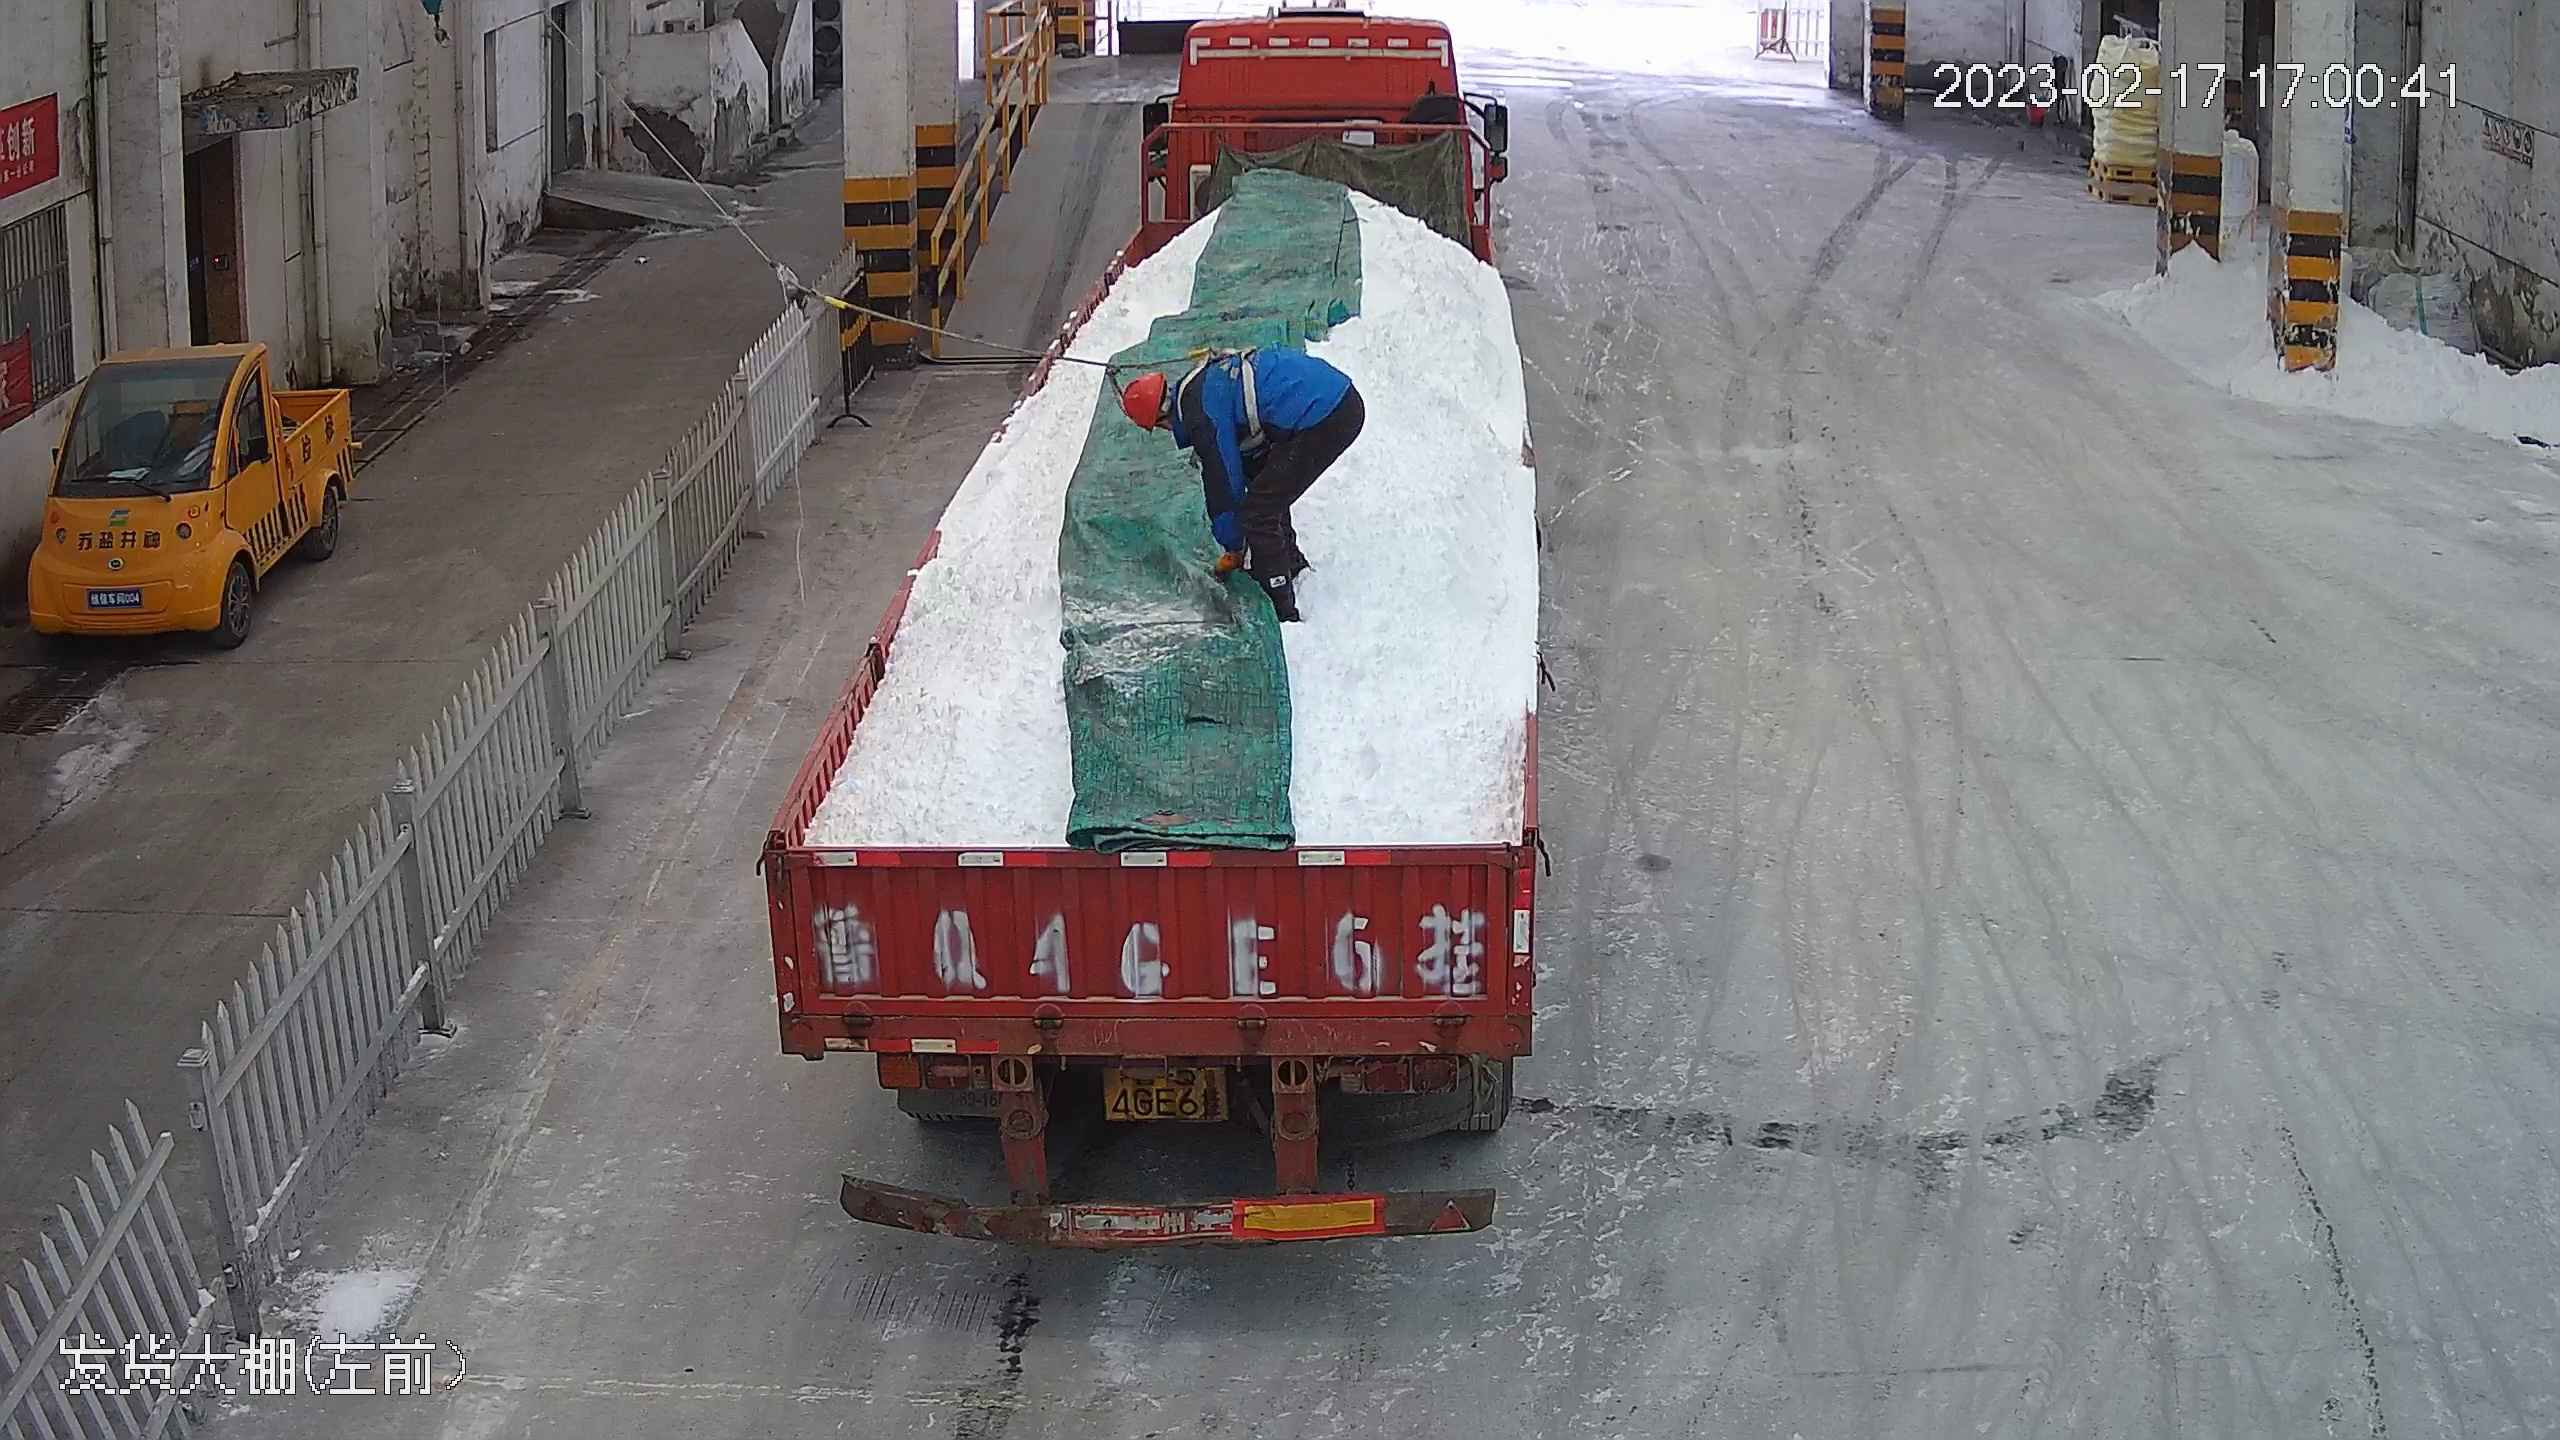belt: (1174, 344, 1263, 395)
head: (1122, 358, 1237, 479)
helmet: (1123, 372, 1166, 434)
people: (1119, 346, 1365, 622)
truck: (752, 6, 1552, 1252)
